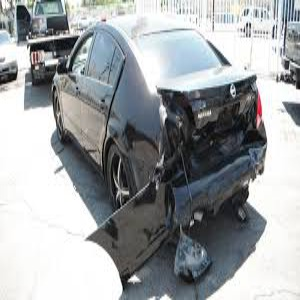bumper: (142, 158, 274, 226)
